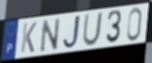0: (126, 6, 143, 43)
3: (106, 10, 123, 45)
J: (62, 14, 82, 50)
K: (20, 21, 38, 54)
N: (39, 16, 61, 54)
U: (81, 11, 104, 47)
